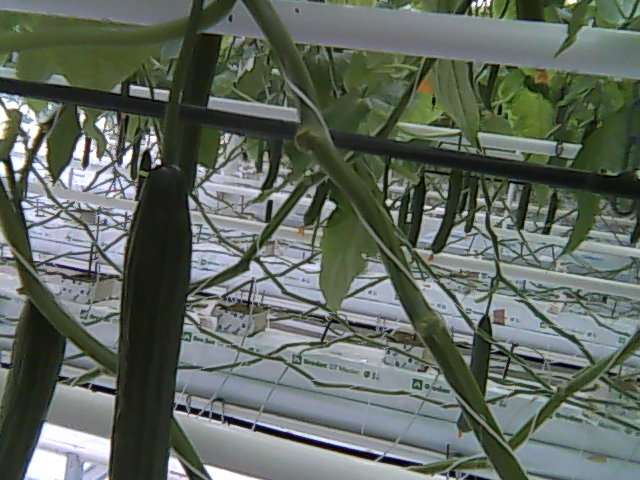concombre: (106, 151, 195, 480), (1, 281, 72, 480)
